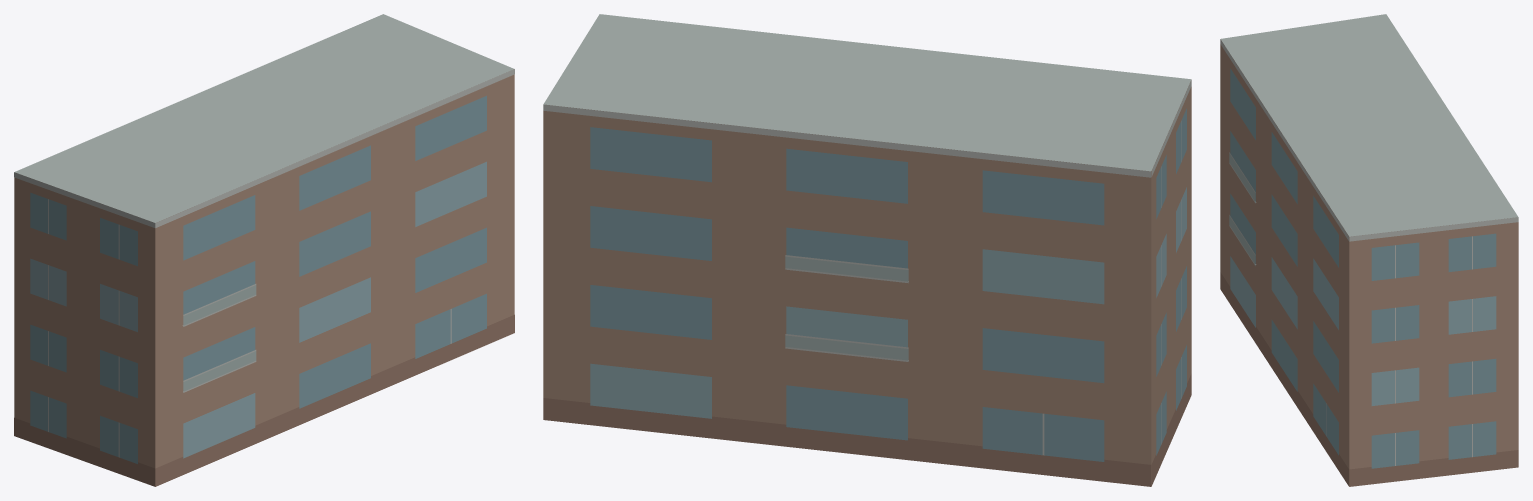
Rendered from survey-upis-32697608.glb.
The picture shows the model from 3 angles, left to right: view 1: azimuth 30°, elevation 25°; view 2: azimuth 150°, elevation 25°; view 3: azimuth 270°, elevation 25°; orthographic projection. The views are drawn at different scales.
Parts seen in each view (by area): view 1: survey-upis-32697608.tmp; view 2: survey-upis-32697608.tmp; view 3: survey-upis-32697608.tmp.
Boxes of the visible parts, x1=… form: survey-upis-32697608.tmp: x1=14, y1=14, x2=514, y2=486; survey-upis-32697608.tmp: x1=543, y1=14, x2=1191, y2=486; survey-upis-32697608.tmp: x1=1220, y1=14, x2=1518, y2=486.
Size of the model in its own units: 23.29 by 12.2 by 13.18.
